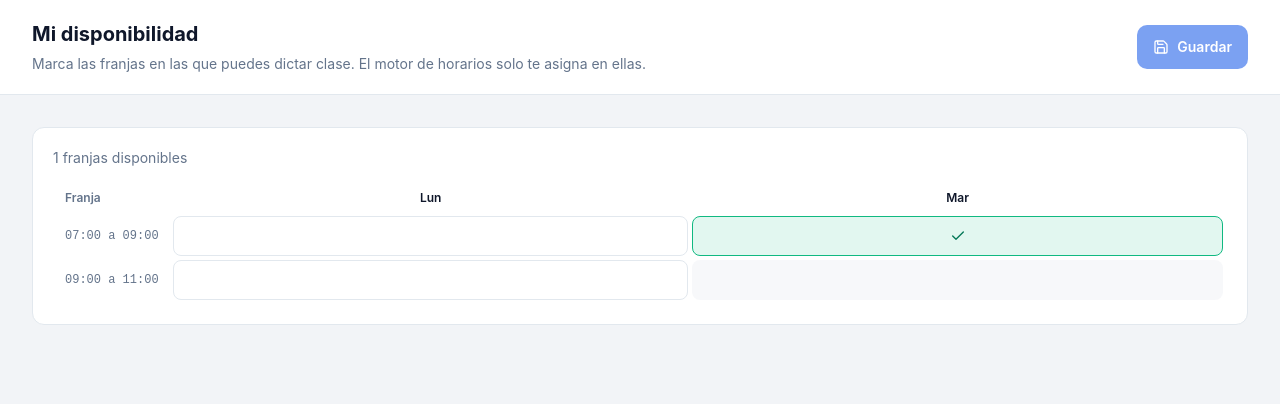
Test case: Mi disponibilidad (RF-16) › marca un día completo desde su encabezado y guarda
Check: the text "1 franjas disponibles" is shown, box [53, 149, 187, 166]
Check: the button "Guardar" is disabled, box [1137, 25, 1248, 69]
Click the button with aria-label "Marcar todo el lunes" at (431, 198), box [414, 188, 447, 208]
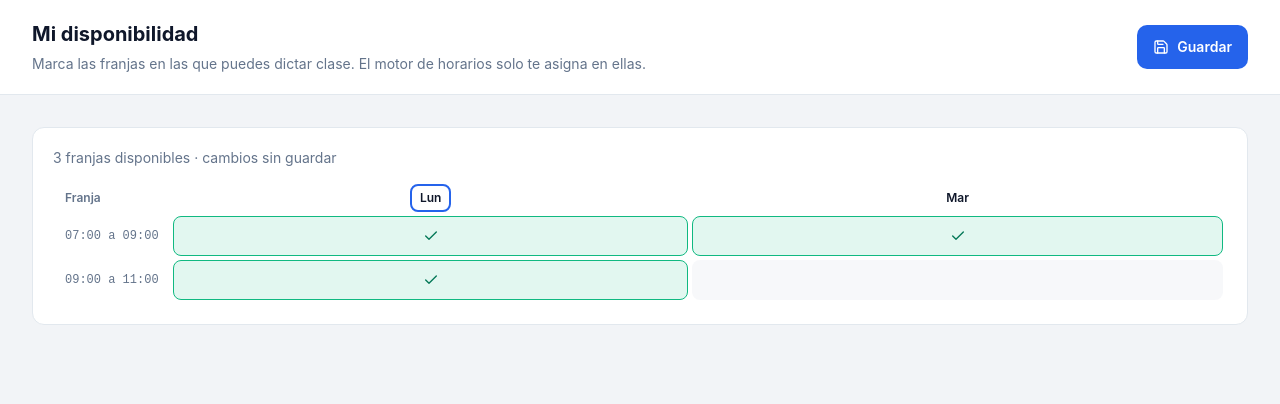
Check: the text "3 franjas disponibles · cambios sin guardar" is shown, box [53, 149, 337, 166]
Click the button "Guardar" at (1193, 47), box [1137, 25, 1248, 69]
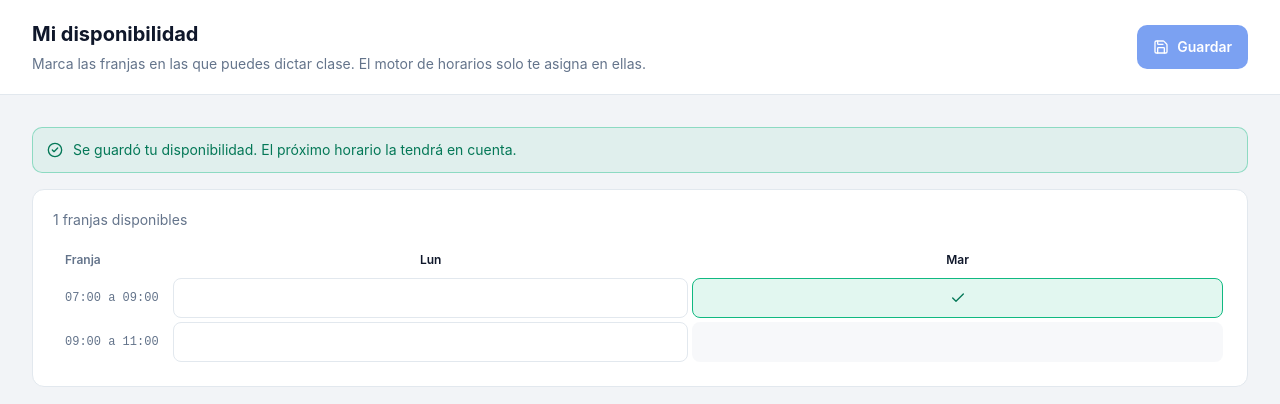
Check: the text "Se guardó tu disponibilidad" is shown, box [73, 141, 517, 158]
